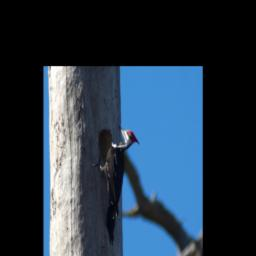Woodpecker: (91, 125, 140, 246)
